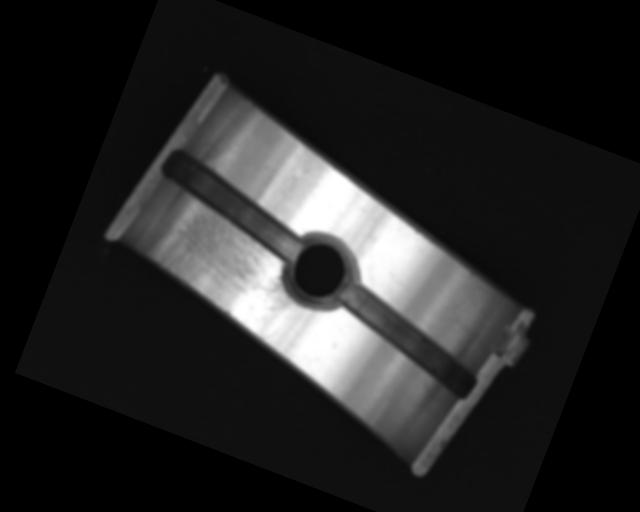gap: (321, 277, 495, 401), (145, 145, 321, 266)
hole: (272, 221, 370, 321)
scratch: (130, 183, 315, 348)
